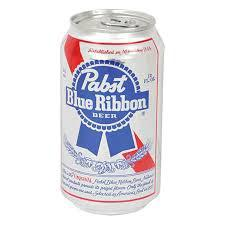beer: (58, 7, 161, 214)
